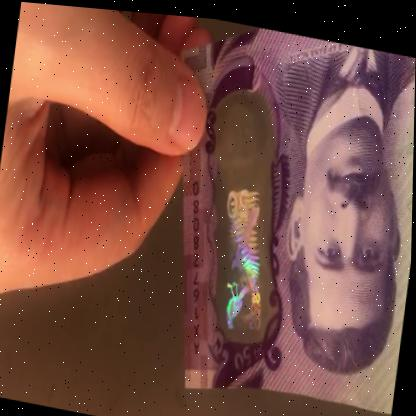50F: (198, 99, 294, 336)
